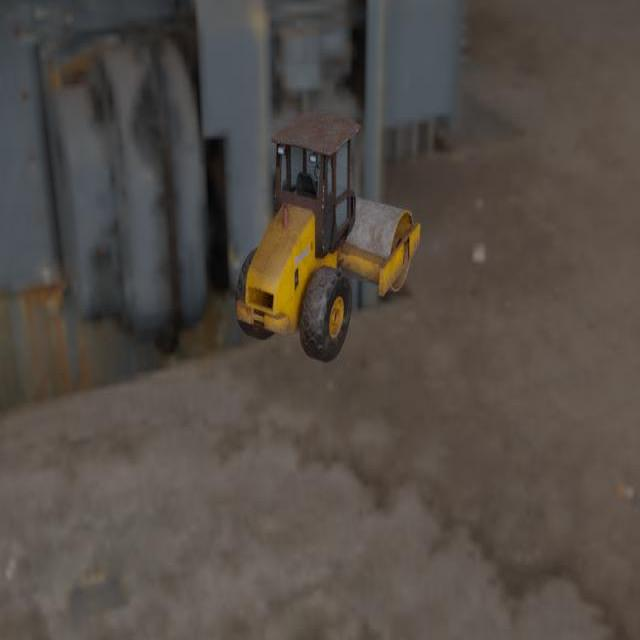Roller: (234, 110, 420, 362)
